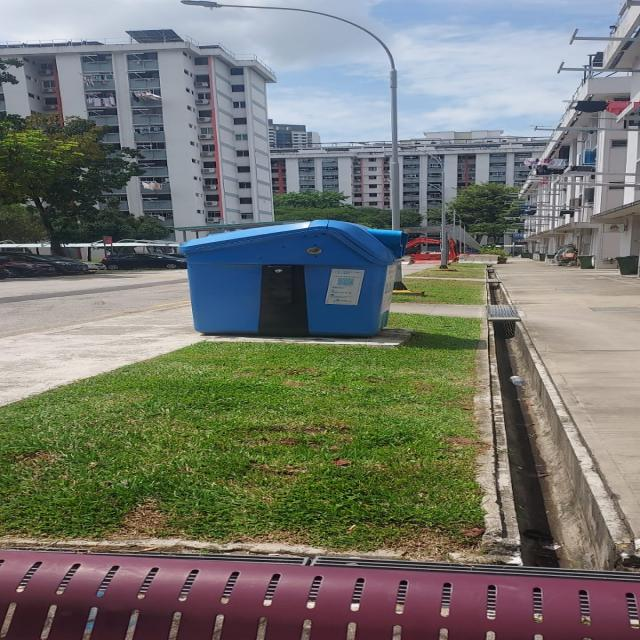bin_empty: (183, 220, 404, 336)
